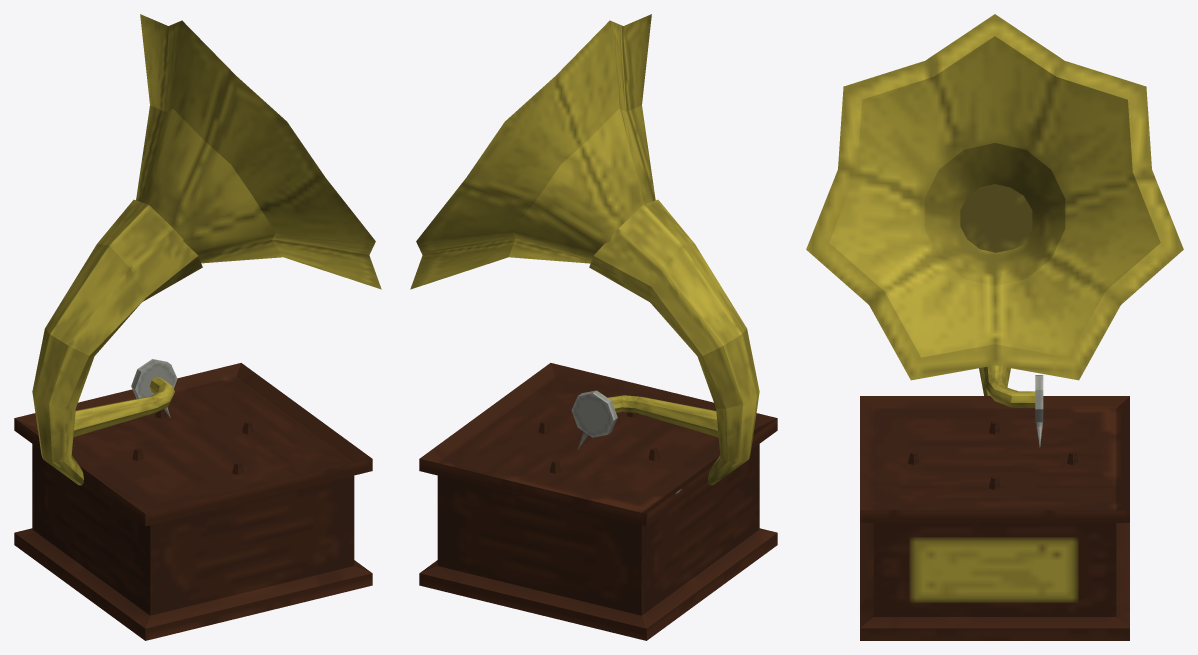
Rendered from Gramophone.fbx.
3 renders of one model, left to right at view 1: azimuth 30°, elevation 25°; view 2: azimuth 150°, elevation 25°; view 3: azimuth 270°, elevation 25°, orthographic. The views are drawn at different scales.
Visible parts, largest first — view 1: pCylinder35, pTorus1, pCylinder25, pCylinder34; view 2: pCylinder35, pTorus1, pCylinder25, pCylinder34; view 3: pTorus1, pCylinder35, pCylinder25, pCylinder34.
Part boxes in pixels (x1,y1,x2,y2): pCylinder35: (14,363,372,640); pTorus1: (136,14,381,289); pCylinder25: (32,199,202,485); pCylinder34: (73,359,177,437); pCylinder35: (419,363,777,640); pTorus1: (410,14,655,289); pCylinder25: (589,199,759,485); pCylinder34: (571,390,718,449); pTorus1: (806,14,1183,380); pCylinder35: (860,396,1129,640); pCylinder25: (960,184,1032,395); pCylinder34: (984,365,1043,447).
Size of the model in its own units: 289 by 494 by 300.
